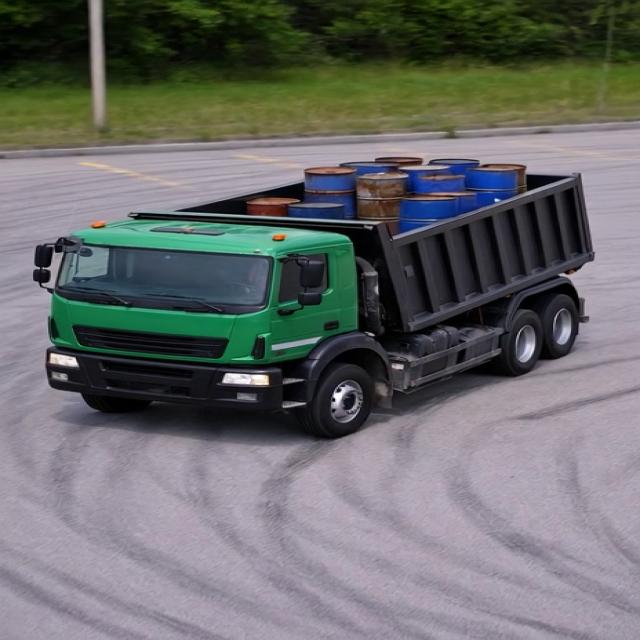Box: (148, 156, 610, 223)
Truck: (27, 119, 636, 433)
